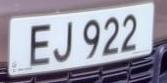2: (102, 12, 122, 61), (121, 11, 140, 57)
9: (80, 15, 103, 63)
E: (29, 19, 53, 71)
J: (51, 18, 77, 67)
